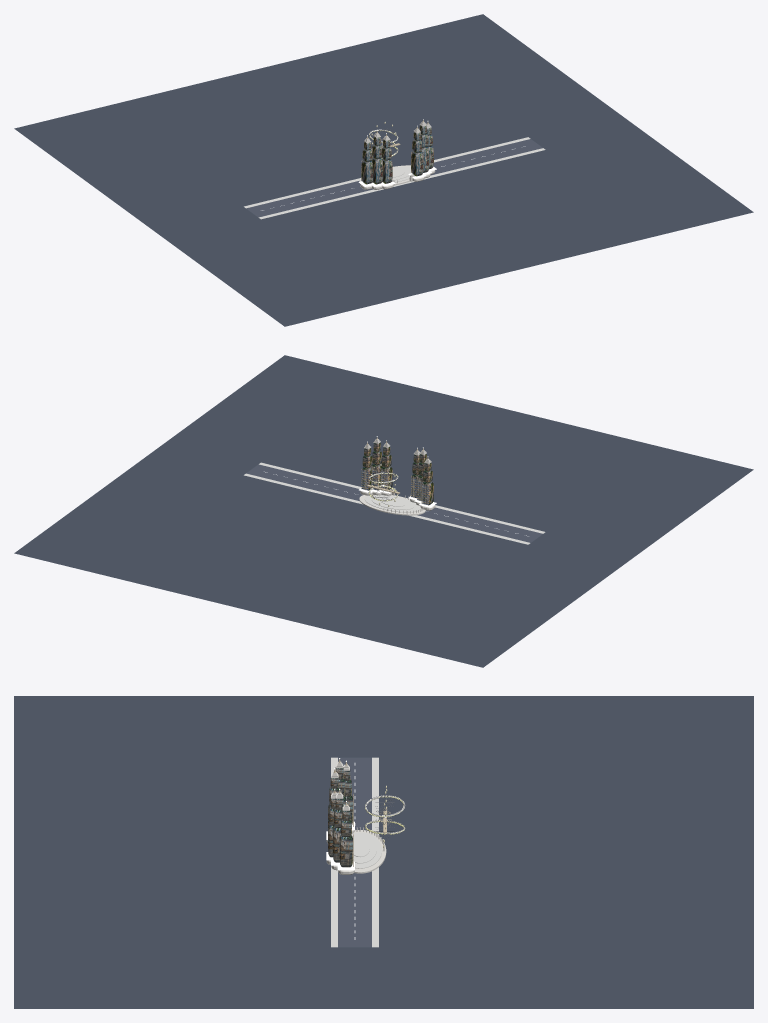
File: studio-v6.glb
3 renders of one model, top to bottom at view 1: azimuth 30°, elevation 25°; view 2: azimuth 150°, elevation 25°; view 3: azimuth 270°, elevation 25°, orthographic. The views are drawn at different scales.
Visible parts, largest first — view 1: Ground, Avenue, Sidewalk_-1, Sidewalk_1; view 2: Ground, Avenue, Sidewalk_1, Sidewalk_-1; view 3: Ground, Avenue, Sidewalk_1, Sidewalk_-1.
Boxes of the visible parts, x1=… form: Ground: x1=14, y1=14, x2=753, y2=326; Avenue: x1=246, y1=139, x2=542, y2=217; Sidewalk_-1: x1=258, y1=148, x2=545, y2=219; Sidewalk_1: x1=244, y1=137, x2=530, y2=208; Ground: x1=14, y1=355, x2=753, y2=667; Avenue: x1=246, y1=464, x2=542, y2=542; Sidewalk_1: x1=244, y1=473, x2=530, y2=544; Sidewalk_-1: x1=259, y1=462, x2=545, y2=533; Ground: x1=14, y1=696, x2=753, y2=1008; Avenue: x1=338, y1=757, x2=371, y2=947; Sidewalk_1: x1=372, y1=757, x2=378, y2=947; Sidewalk_-1: x1=331, y1=757, x2=337, y2=947.
Bounding box in the file's own units: 560 × 66 × 560.
19 materials, 1 textured.
